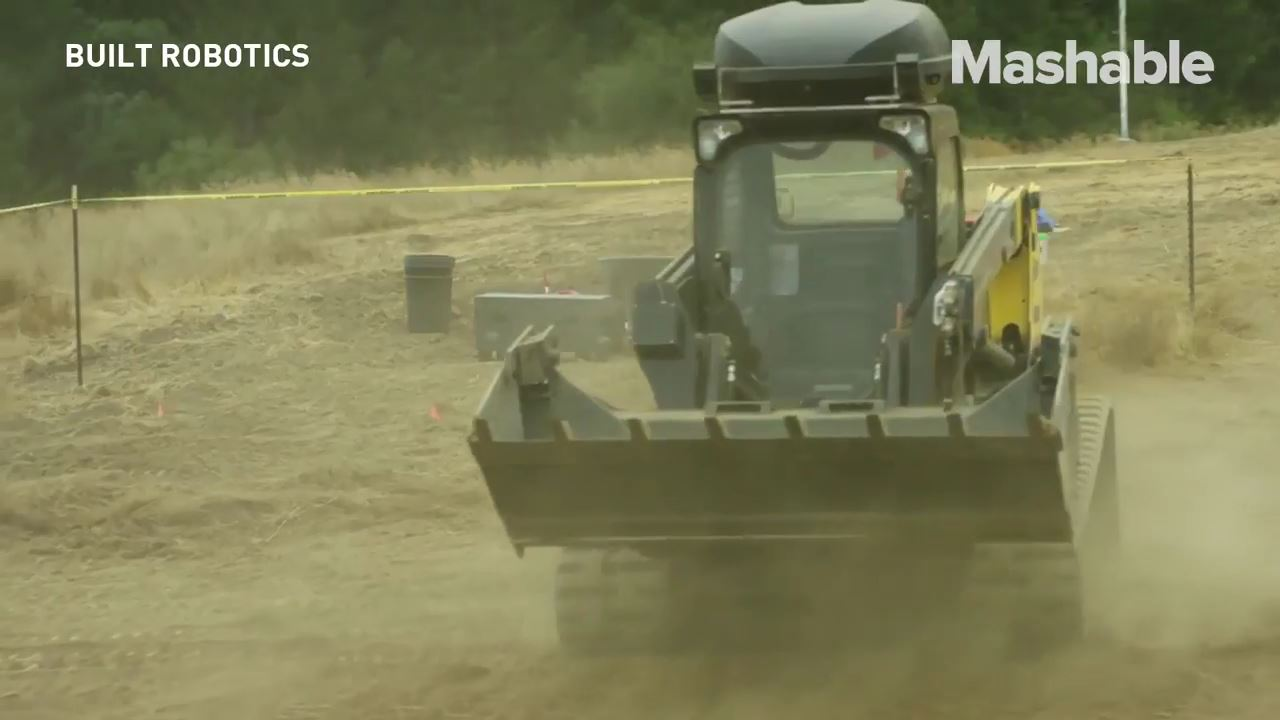con_eq: (446, 5, 1148, 651)
